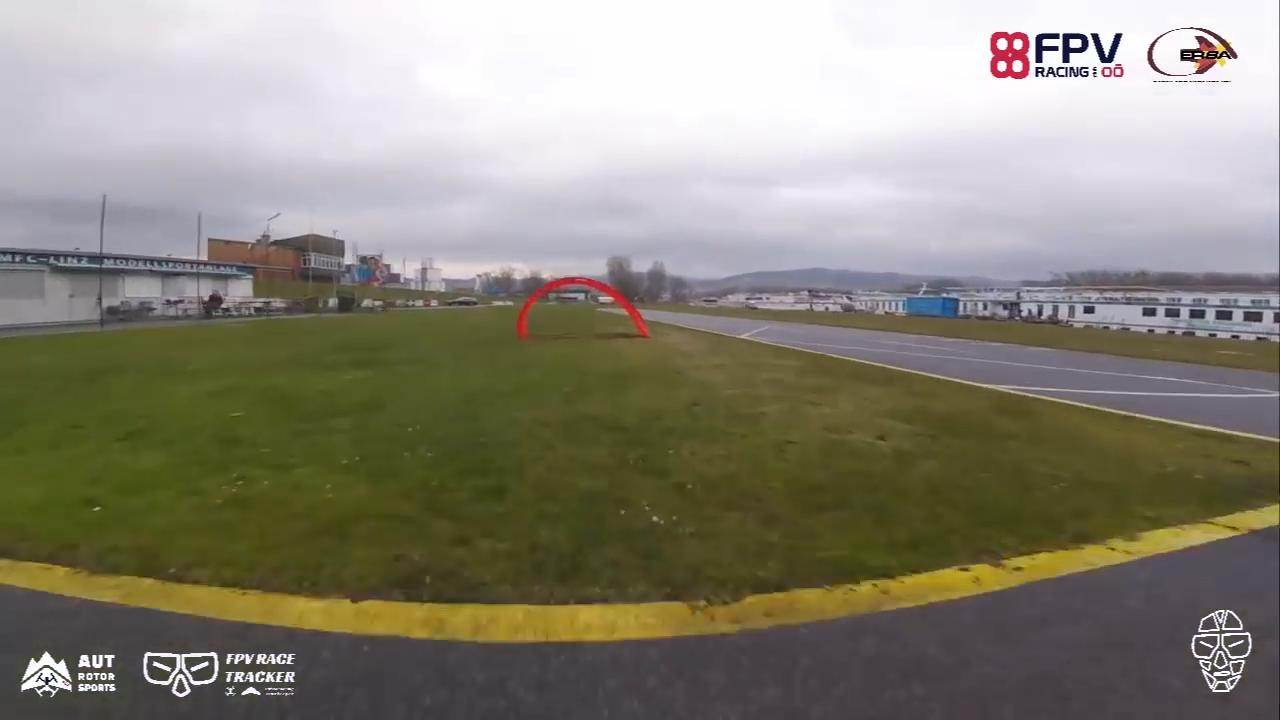gate: (515, 275, 652, 341)
